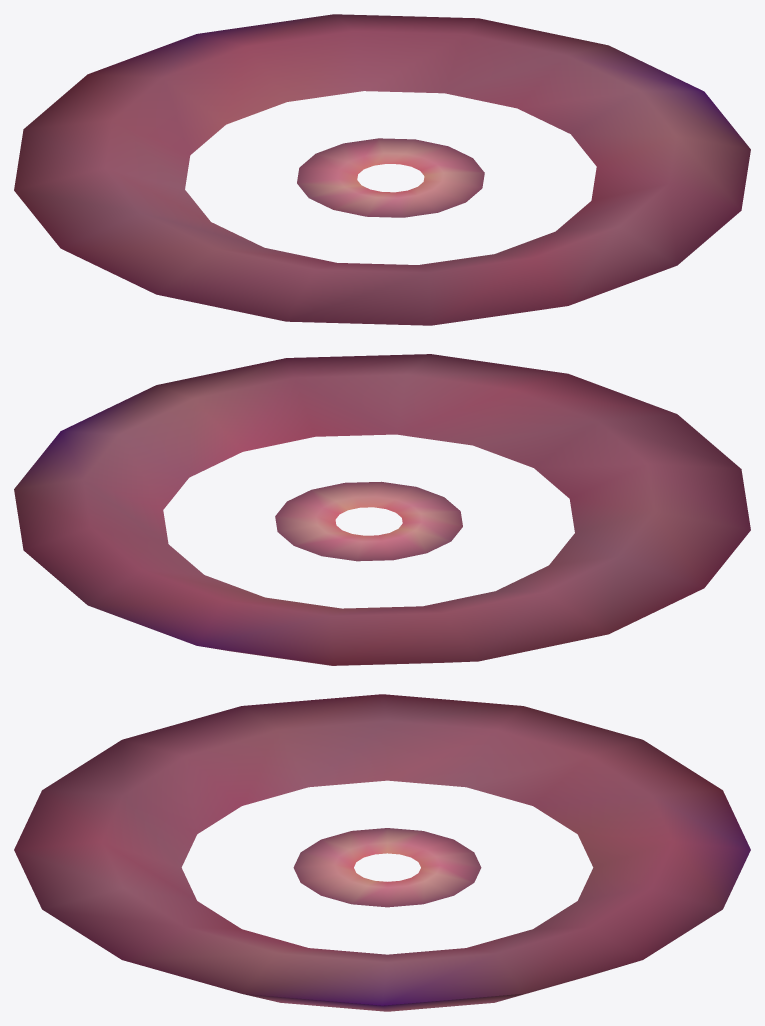
Rendered from space-nebulae-ring-nebula_v6.glb.
The picture shows the model from 3 angles, top to bottom: view 1: azimuth 30°, elevation 25°; view 2: azimuth 150°, elevation 25°; view 3: azimuth 270°, elevation 25°; orthographic projection.
Parts seen in each view (by area): view 1: Ring Nebula_v6; view 2: Ring Nebula_v6; view 3: Ring Nebula_v6.
Boxes of the visible parts, bbox=[...] form: Ring Nebula_v6: bbox=[14, 14, 750, 325]; Ring Nebula_v6: bbox=[14, 354, 750, 665]; Ring Nebula_v6: bbox=[14, 694, 750, 1011].
Size of the model in its own units: 0.5 by 0.0387 by 0.5.
